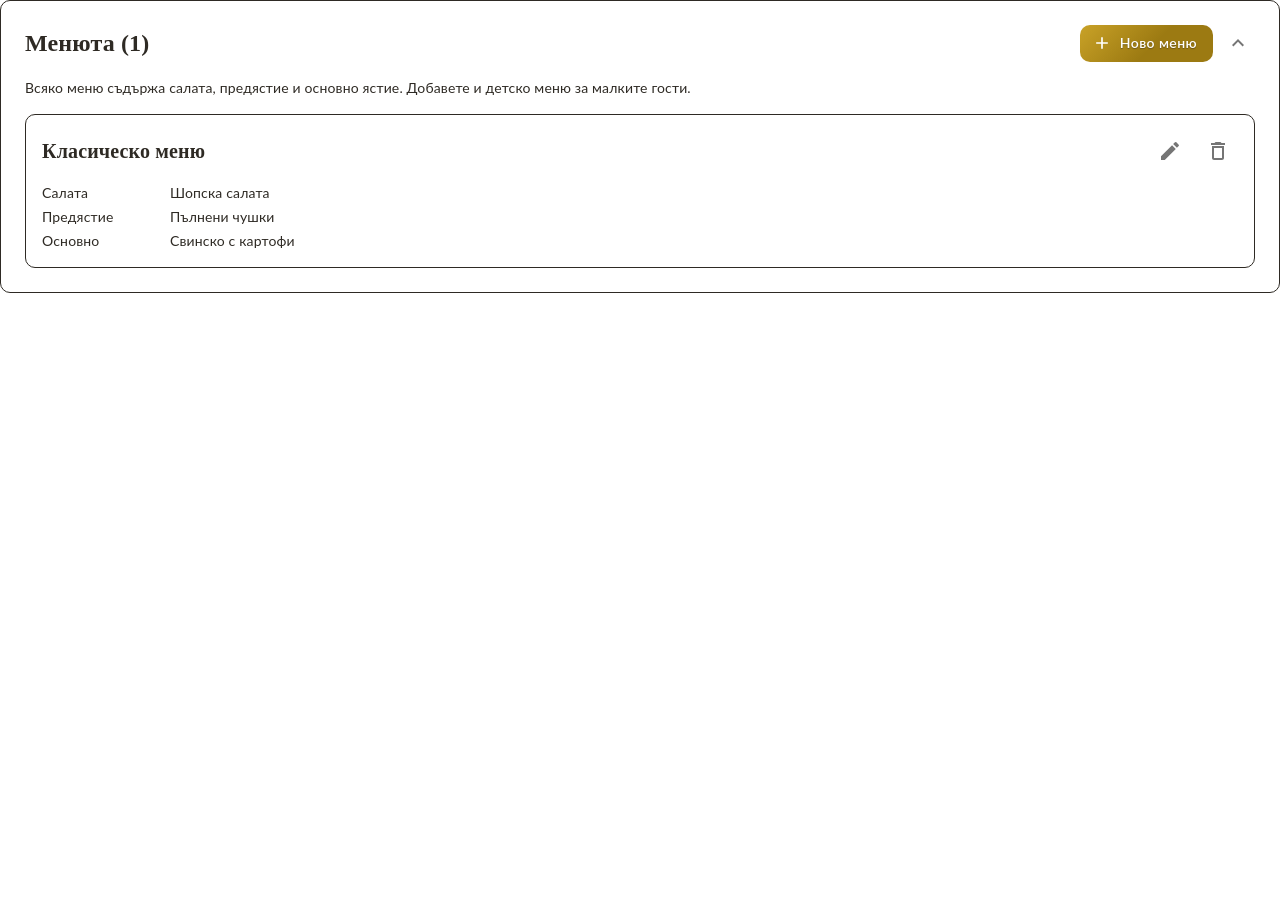
Test case: MenusPanel › edits a menu
This screenshot has width=1280, height=900.
What coordinates should you click on to do the following:
click the button named "Редактирай Класическо меню"
I would click on:
 (1170, 150)
Its box is [1150, 130, 1190, 170].
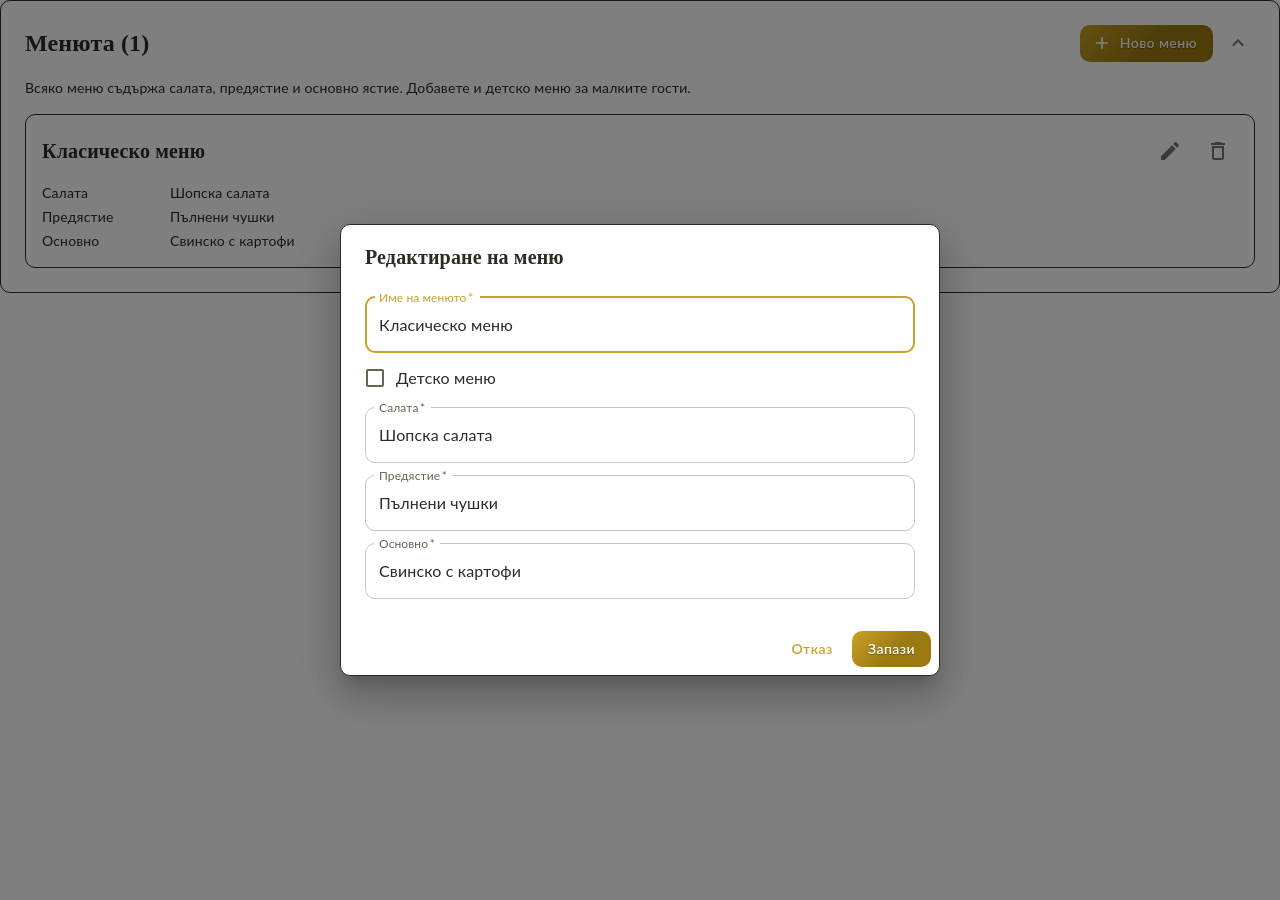
What coordinates should you click on to do the following:
click the button "Запази"
I would click on:
 (892, 649)
Its box is [852, 631, 931, 667].
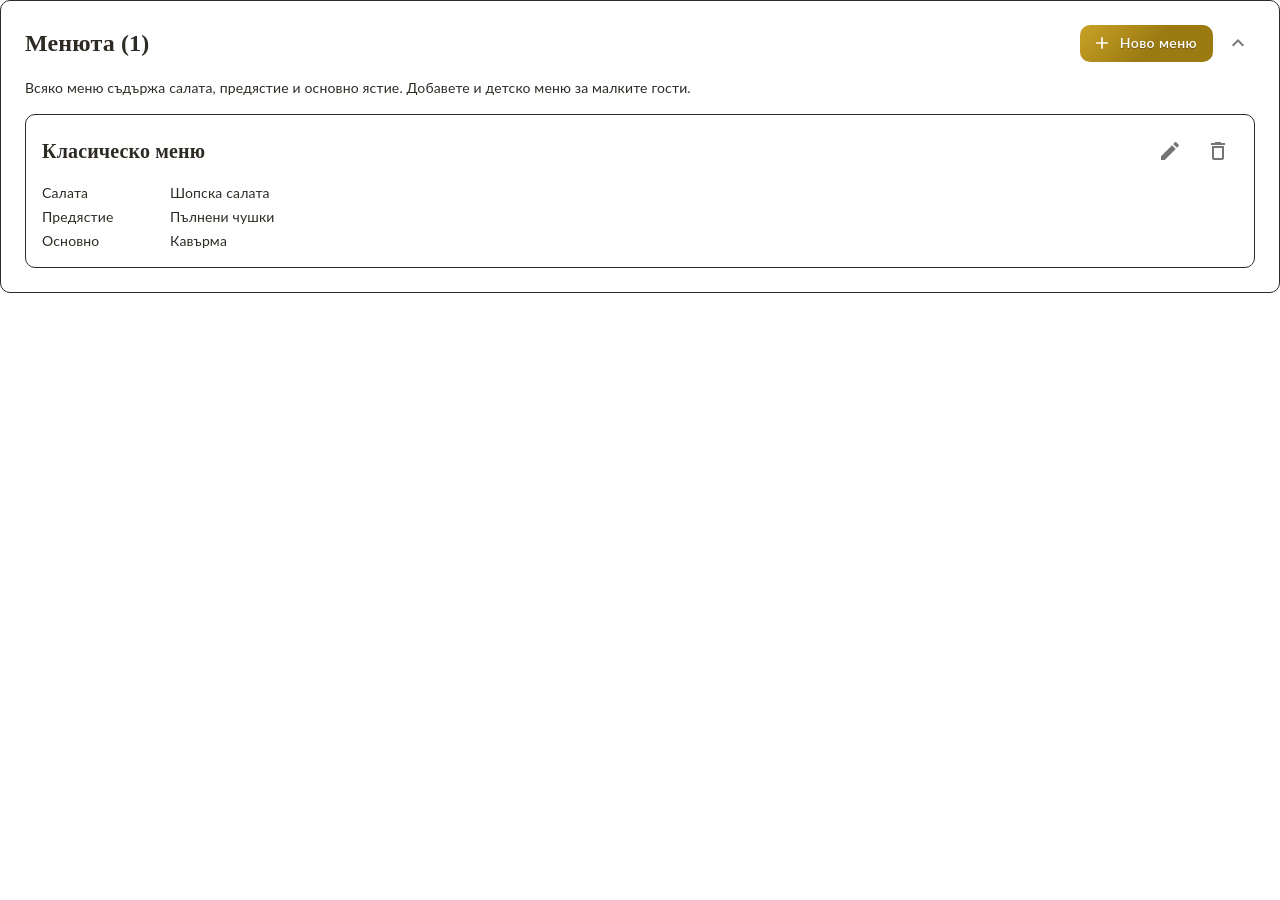
expect the text "Кавърма" is shown: met, box [170, 230, 227, 250]
